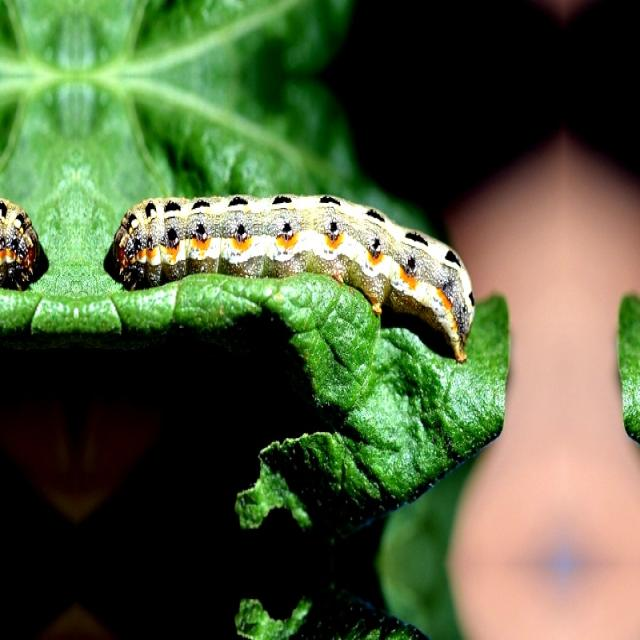armyworm: (110, 191, 476, 364)
